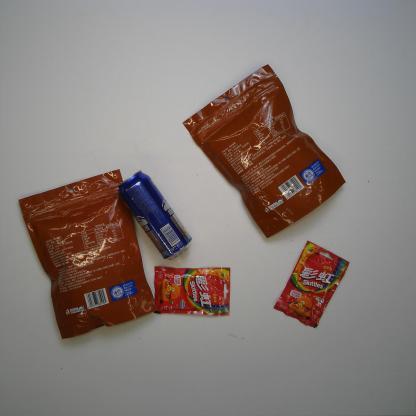Alcohol: (117, 169, 193, 261)
Candy: (273, 240, 350, 329), (153, 266, 231, 316)
Dried Food: (182, 63, 346, 240), (17, 169, 157, 340)
